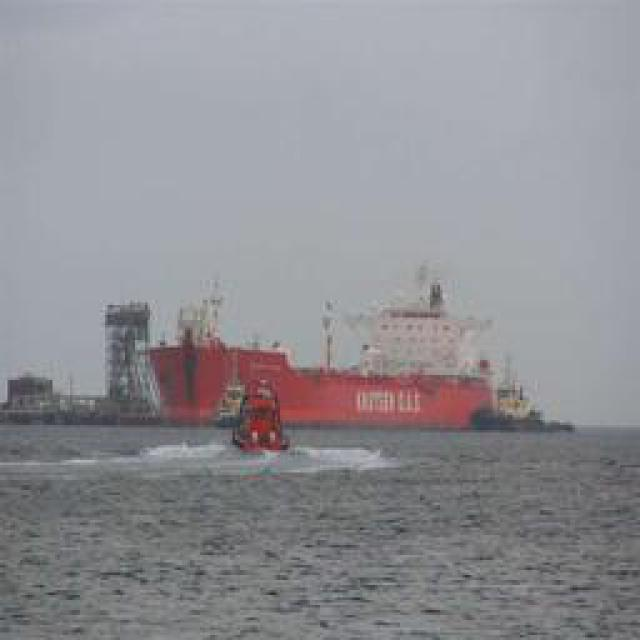Ship: (148, 290, 566, 438)
